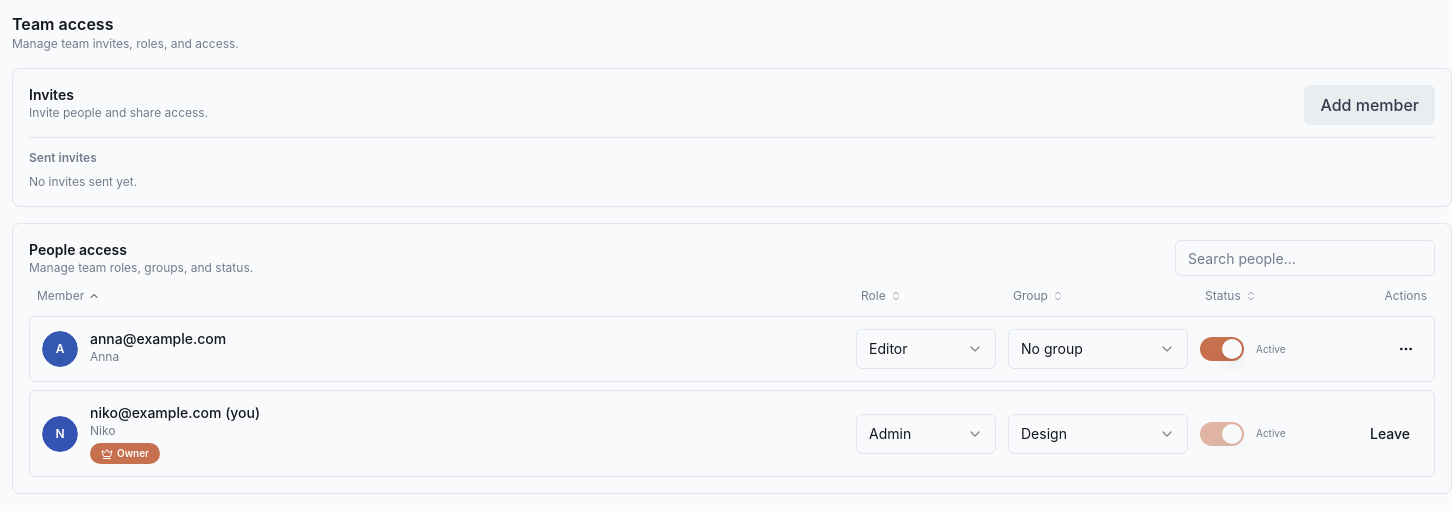
Test: WorkspaceMembersPanel access content › filters the list from its own search field
This screenshot has width=1452, height=511.
Expected: the text "anna@example.com" is shown, [90, 329, 226, 349]
Type "anna" into the field with placeholder "Search people..." at (1305,258), box [1175, 240, 1435, 276]
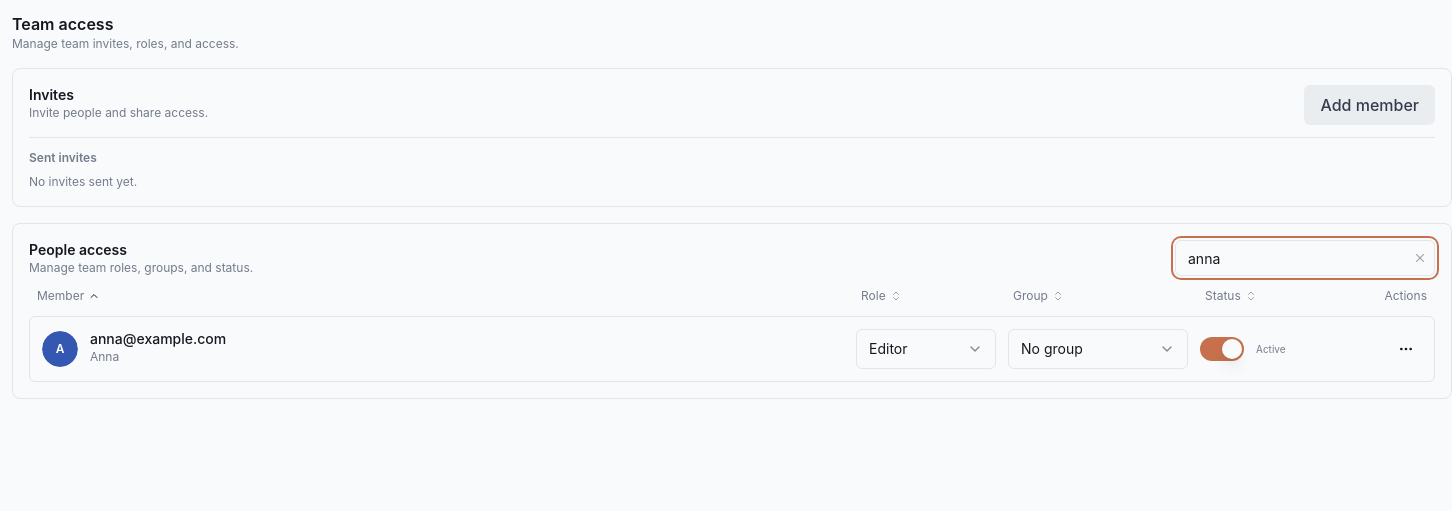
Expected: the text "anna@example.com" is shown, [90, 329, 226, 349]
Expected: the text "niko@example.com" is gone
Replace the text in the field with placeholder "Search people..." with "zzz" at (1305,258), box [1175, 240, 1435, 276]
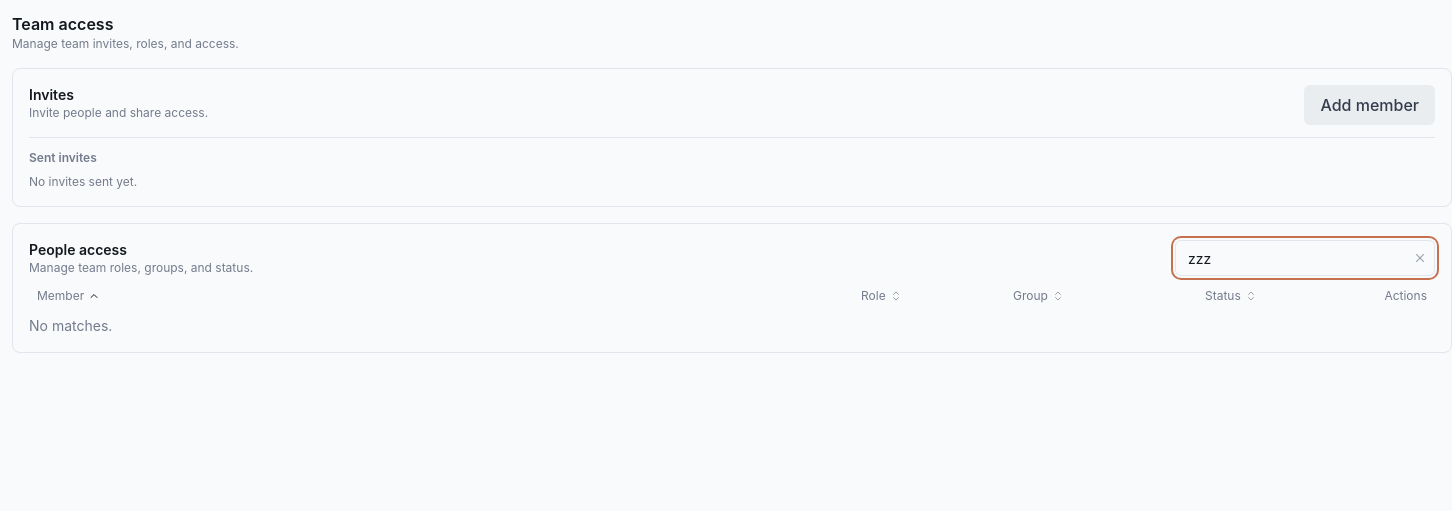
Expected: the text "No matches." is shown, [29, 317, 112, 334]
